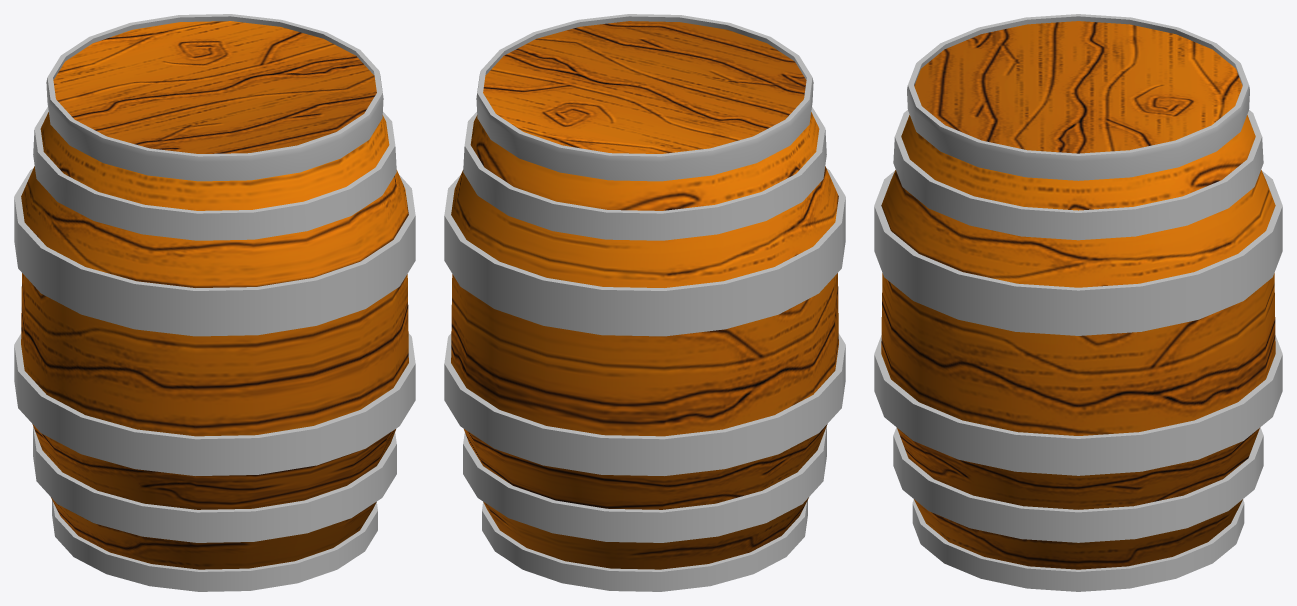
File: Barrel_mesh.fbx
3 views of the same model, side by side, from view 1: azimuth 30°, elevation 25°; view 2: azimuth 150°, elevation 25°; view 3: azimuth 270°, elevation 25° (orthographic).
Visible parts, largest first — view 1: barrel; view 2: barrel; view 3: barrel.
Part boxes in pixels (left/top/right/bottom): barrel: left=14, top=14, right=415, bottom=591; barrel: left=444, top=14, right=845, bottom=591; barrel: left=874, top=14, right=1282, bottom=591.
Bounding box in the file's own units: 55.71 × 67.11 × 56.58.
